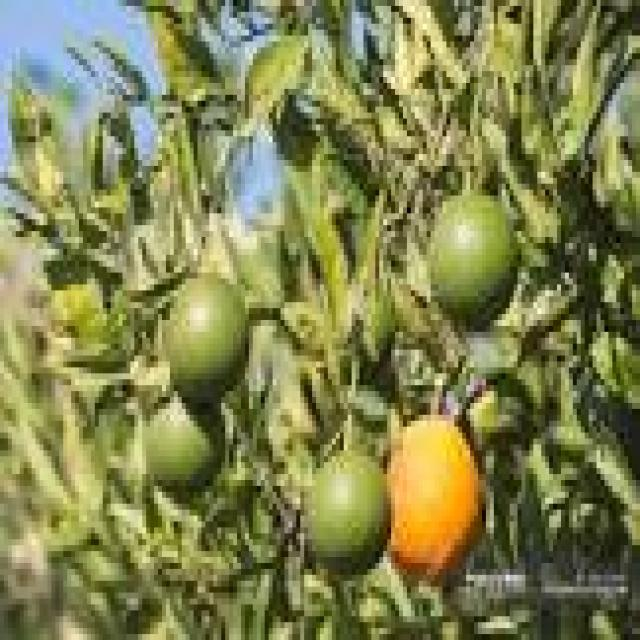orange: (387, 415, 478, 581), (427, 190, 514, 320), (162, 273, 245, 397), (304, 450, 387, 569), (142, 397, 221, 486)
